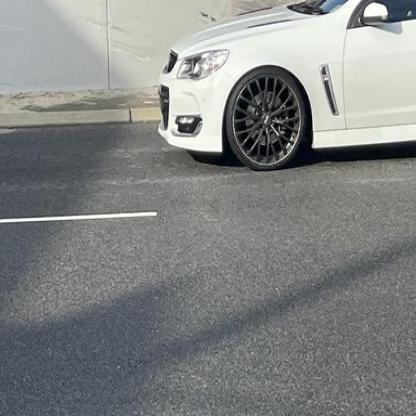Tire: (225, 67, 306, 172)
